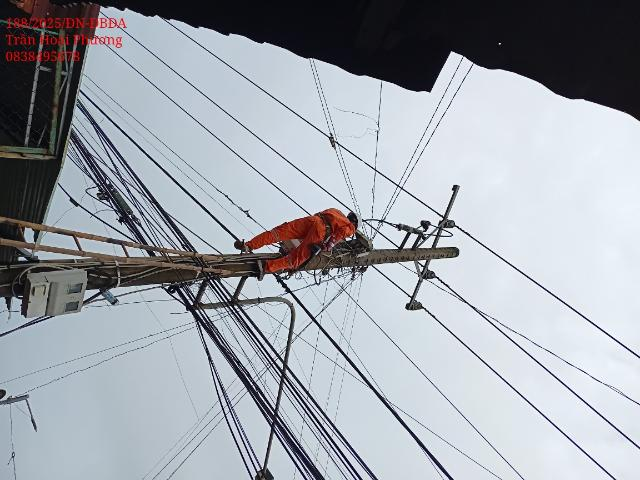gloves: (319, 243, 330, 253)
harness: (312, 205, 335, 239)
helmet: (350, 210, 365, 231)
shoes: (228, 236, 250, 252), (256, 257, 268, 282)
